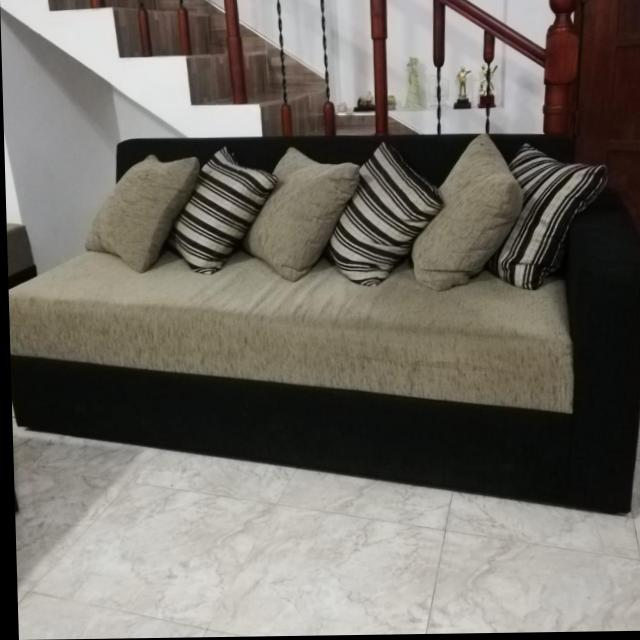Sofa: (3, 131, 640, 526)
